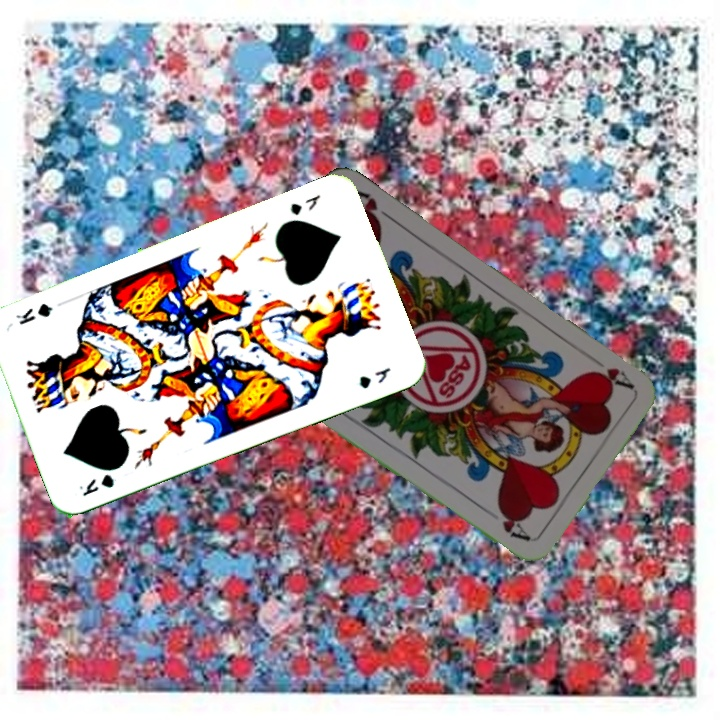GK: (75, 470, 117, 499), (286, 190, 323, 218)
HA: (587, 363, 636, 392)
